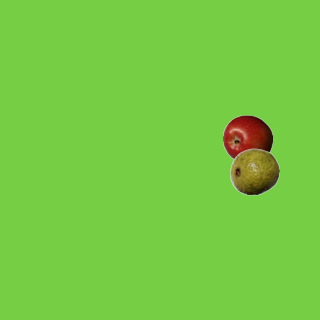Apple Braeburn: (222, 114, 272, 164)
Guava: (229, 146, 279, 196)
